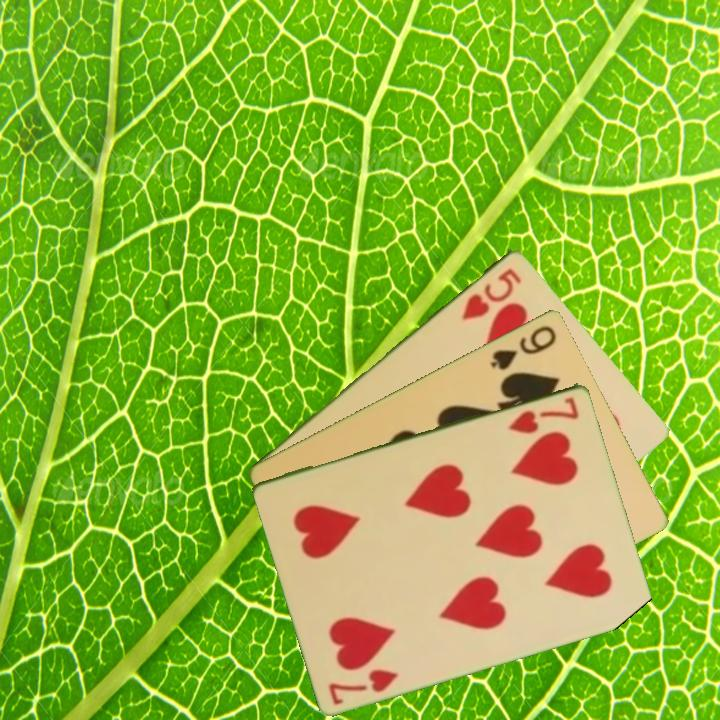5h: (458, 264, 524, 323)
7h: (504, 393, 583, 436), (325, 665, 402, 707)
9s: (487, 321, 560, 373)
